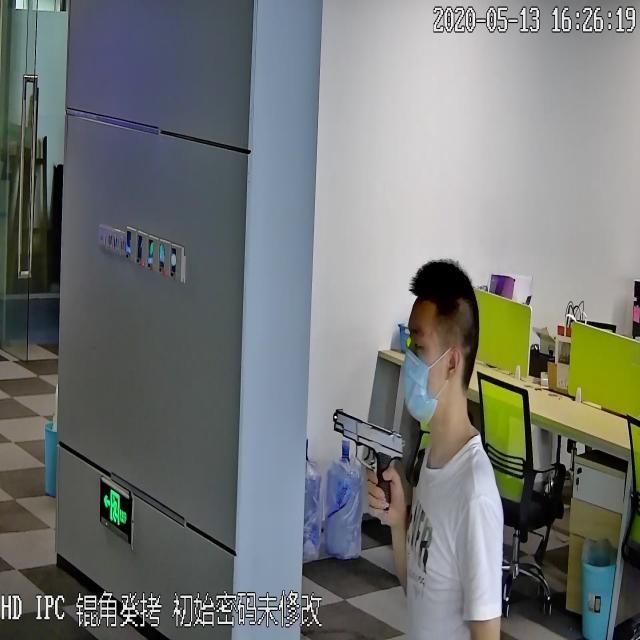gun: (331, 400, 406, 513)
